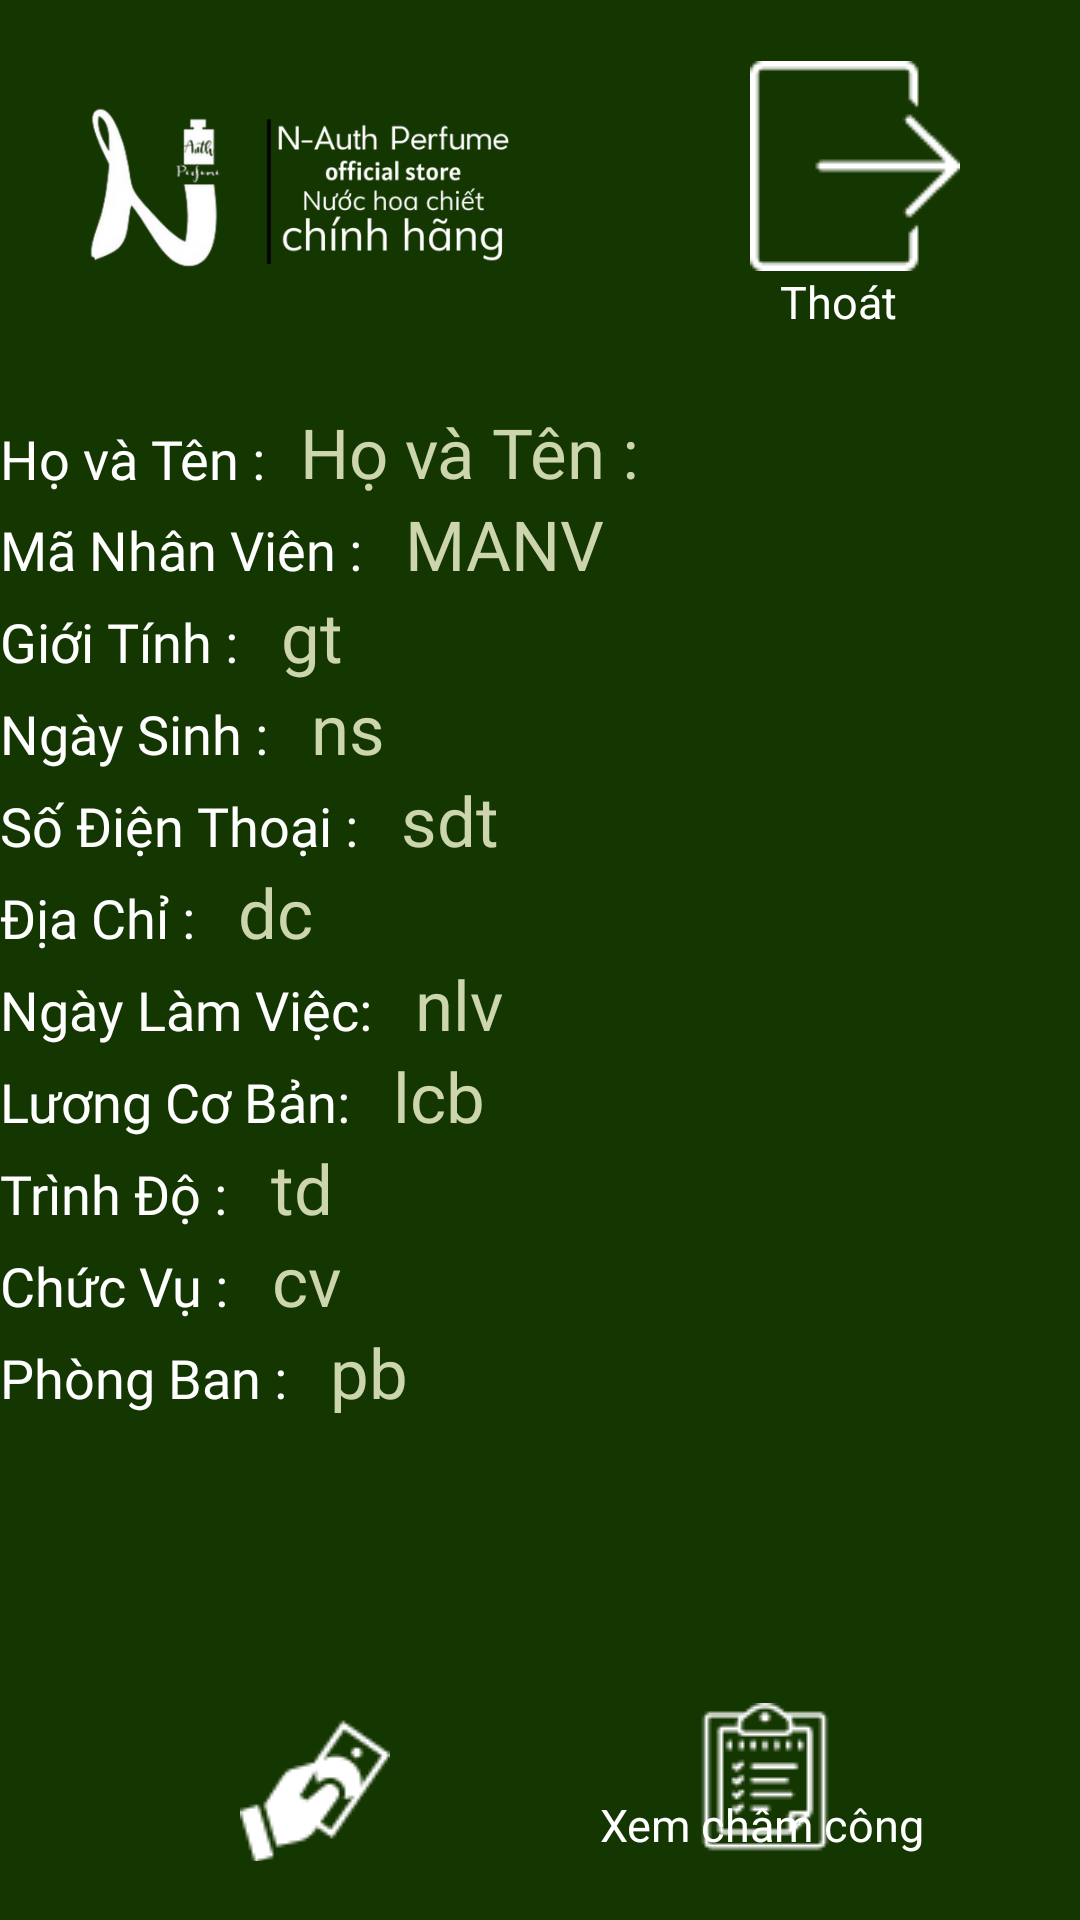

Icon click points for this 1080*1920 phone screenshot, format (x,y):
tien: (315,1790)
